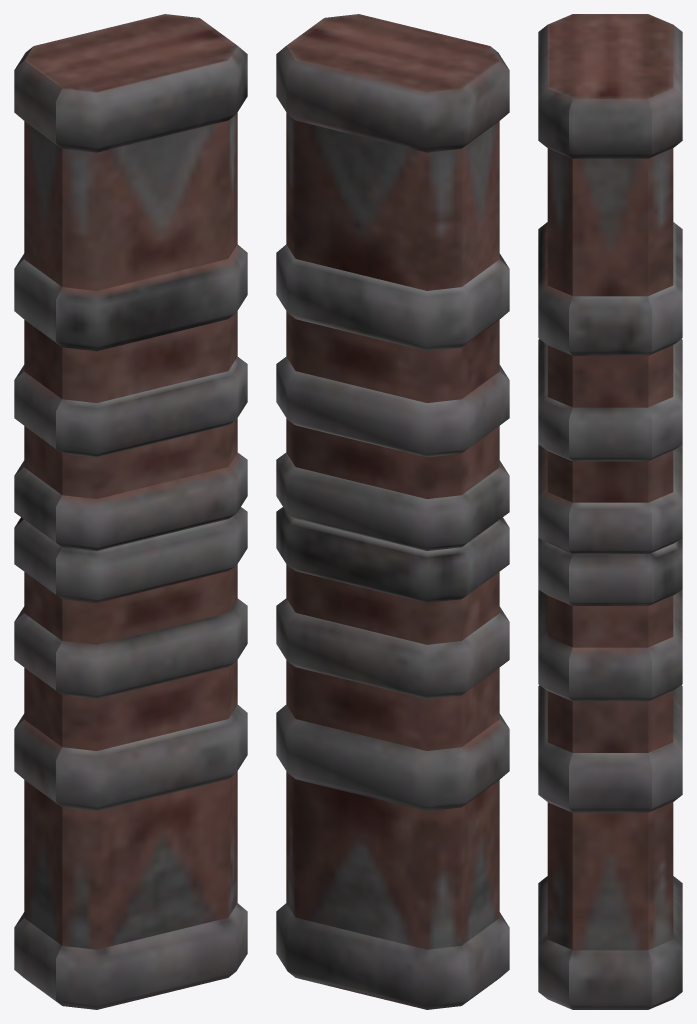
The model's file is sm_dwarf_iron_sword_handle_b.fbx.
3 renders of one model, left to right at view 1: azimuth 30°, elevation 25°; view 2: azimuth 150°, elevation 25°; view 3: azimuth 270°, elevation 25°, orthographic.
Parts seen in each view (by area): view 1: sm_dwarf_iron_sword_handle_b; view 2: sm_dwarf_iron_sword_handle_b; view 3: sm_dwarf_iron_sword_handle_b.
Boxes of the visible parts, x1=… form: sm_dwarf_iron_sword_handle_b: x1=14, y1=14, x2=247, y2=1009; sm_dwarf_iron_sword_handle_b: x1=276, y1=14, x2=509, y2=1009; sm_dwarf_iron_sword_handle_b: x1=538, y1=14, x2=682, y2=1009.
Bounding box in the file's own units: 0.0437 × 0.0287 × 0.2.
Materials: 1 (1 with a texture image).
